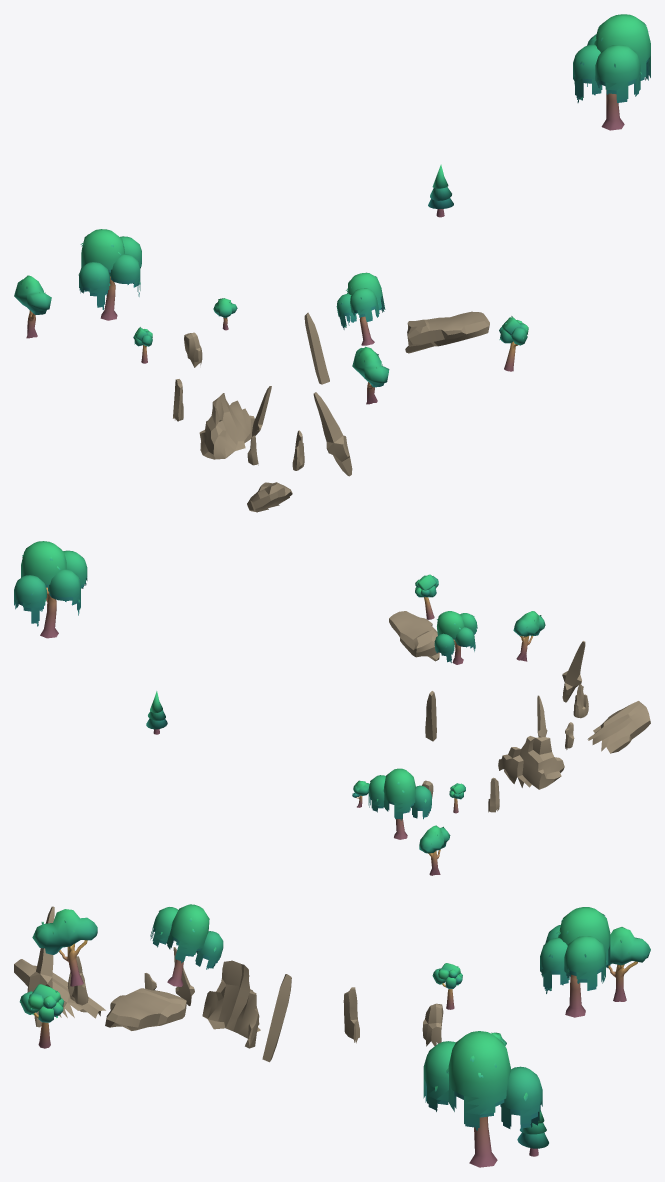
File: rock_tree.glb
The picture shows the model from 3 angles, top to bottom: view 1: azimuth 30°, elevation 25°; view 2: azimuth 150°, elevation 25°; view 3: azimuth 270°, elevation 25°; orthographic projection. The views are drawn at different scales.
Parts seen in each view (by area): view 1: rock_trees; view 2: rock_trees; view 3: rock_trees.
Part boxes in pixels (<box>): rock_trees: <box>14,14,650,512</box>; rock_trees: <box>14,541,650,875</box>; rock_trees: <box>14,904,650,1167</box>.
Size of what is drawn, in the model's own units: 166 by 67.42 by 129.
Materials: 2 (1 with a texture image).
